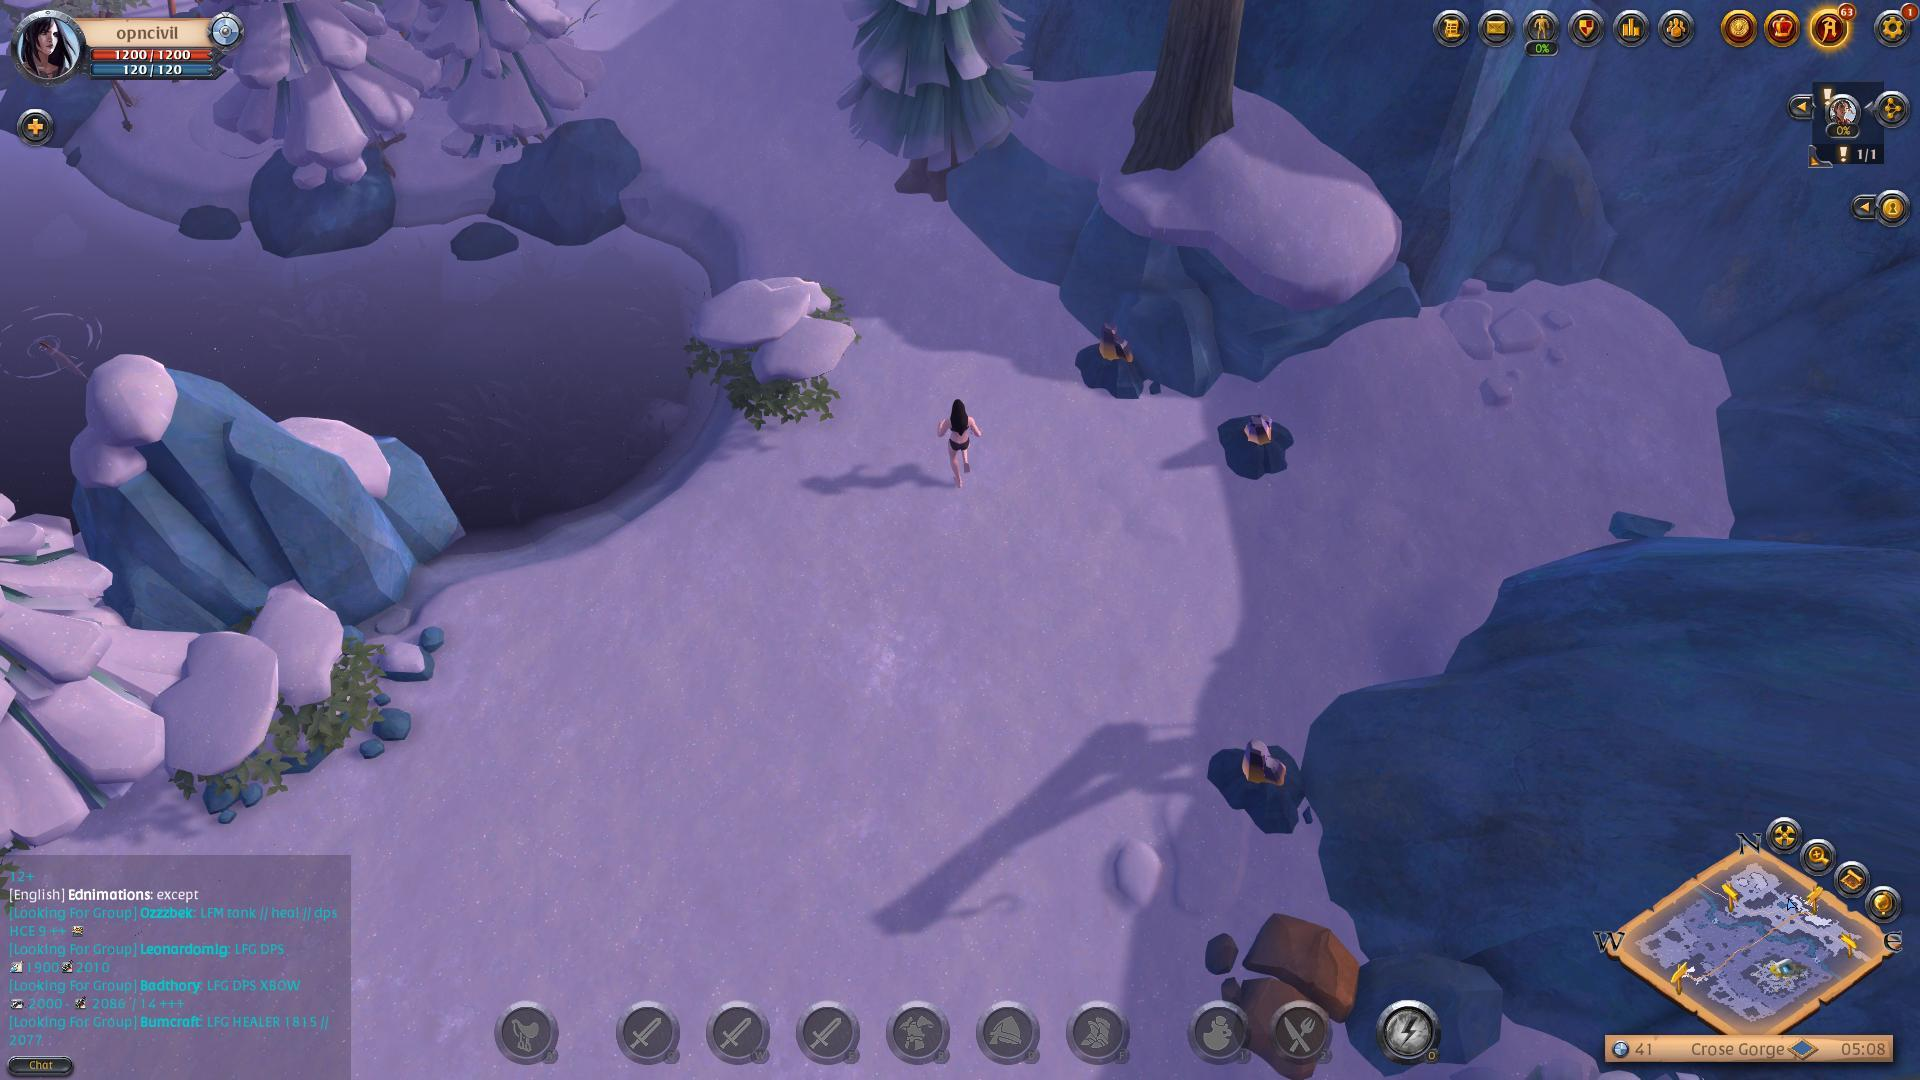copper_ore: (1195, 731, 1317, 822), (1203, 404, 1319, 477), (1072, 332, 1174, 400)
limestone: (1197, 906, 1365, 1080)
